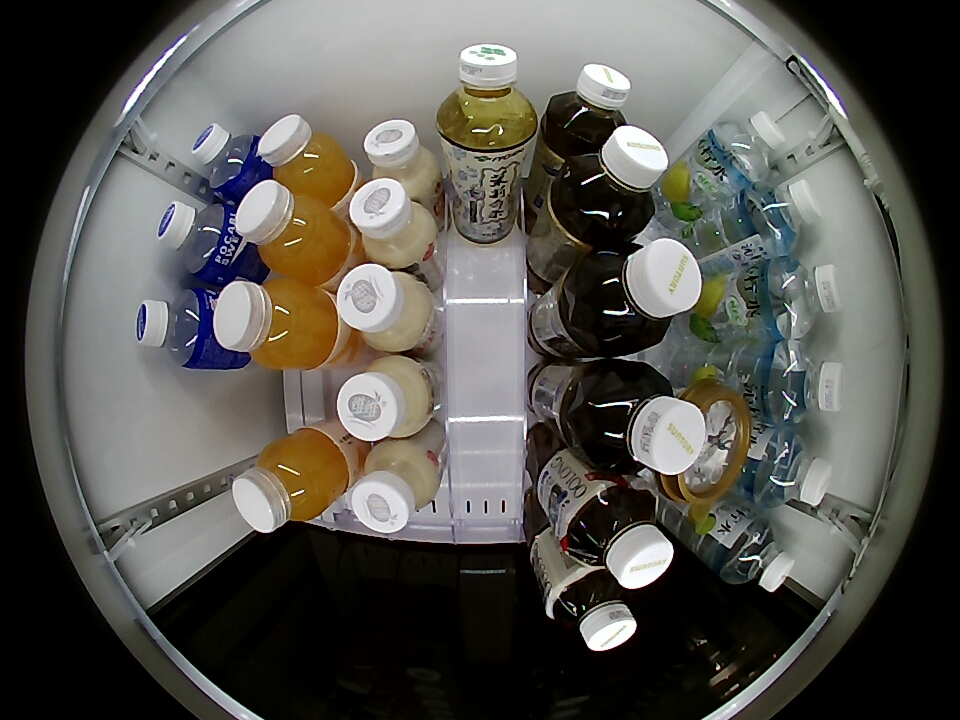baicha: (436, 43, 537, 155)
baokuangli: (156, 200, 242, 281), (135, 287, 217, 369), (192, 124, 265, 200)
lujiaoxiang: (664, 380, 753, 503)
qinningshui: (749, 427, 833, 509), (764, 341, 846, 424), (766, 257, 843, 338), (718, 517, 796, 593), (747, 178, 823, 254), (711, 110, 787, 182)
weic: (232, 429, 348, 533), (235, 180, 352, 283), (212, 278, 341, 371), (257, 115, 357, 206)
weiweidounai: (349, 442, 439, 536), (336, 263, 430, 352), (335, 355, 430, 443), (349, 177, 437, 267), (363, 118, 439, 196)
wulongcha: (574, 237, 702, 353), (581, 364, 702, 476), (559, 125, 670, 236), (563, 479, 674, 589), (546, 567, 637, 652), (546, 63, 632, 147)
